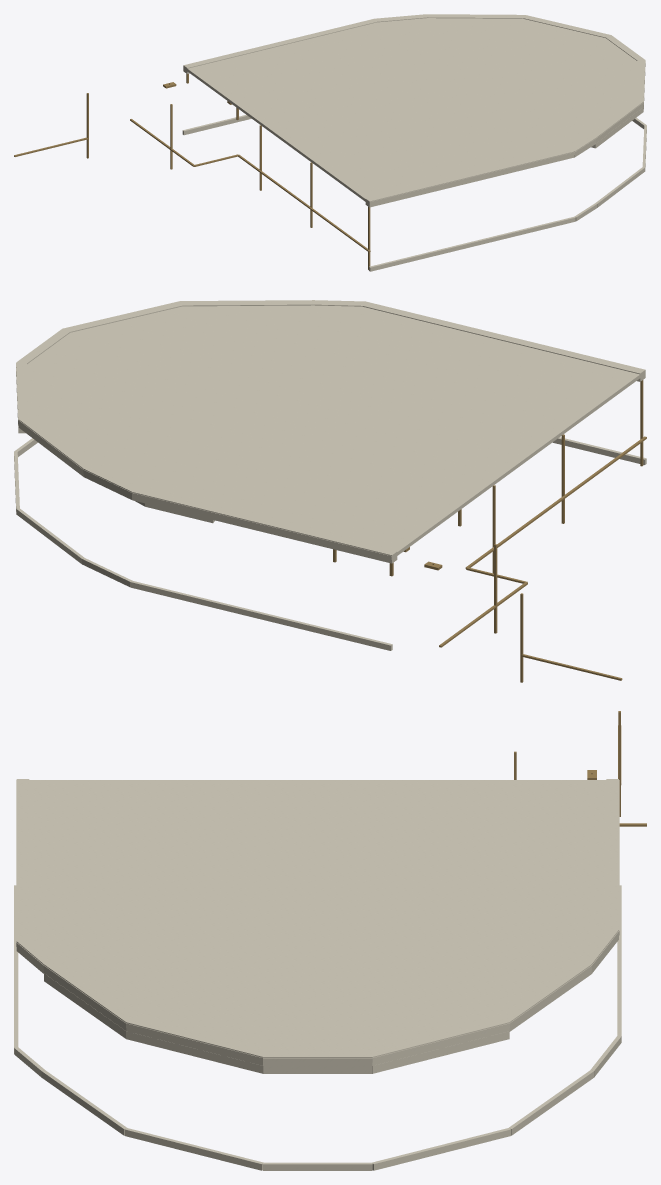
Rendered from OriginalBoundedBatches.glb.
3 views of the same model, one above another, from view 1: azimuth 30°, elevation 25°; view 2: azimuth 150°, elevation 25°; view 3: azimuth 270°, elevation 25° (orthographic). The views are drawn at different scales.
Parts seen in each view (by area): view 1: CR_Batch_royalty_ivory_enamel, CR_Batch_lane_private_champagne_metal; view 2: CR_Batch_royalty_ivory_enamel, CR_Batch_lane_private_champagne_metal; view 3: CR_Batch_royalty_ivory_enamel.
Part boxes in pixels (x1,y1,x2,y2): CR_Batch_royalty_ivory_enamel: (182,14,646,271); CR_Batch_lane_private_champagne_metal: (14,74,370,269); CR_Batch_royalty_ivory_enamel: (14,300,646,650); CR_Batch_lane_private_champagne_metal: (333,380,646,682); CR_Batch_royalty_ivory_enamel: (14,779,621,1170).
Bounding box in the file's own units: 35.58 × 4.54 × 23.08.
3 materials, 2 textured.
